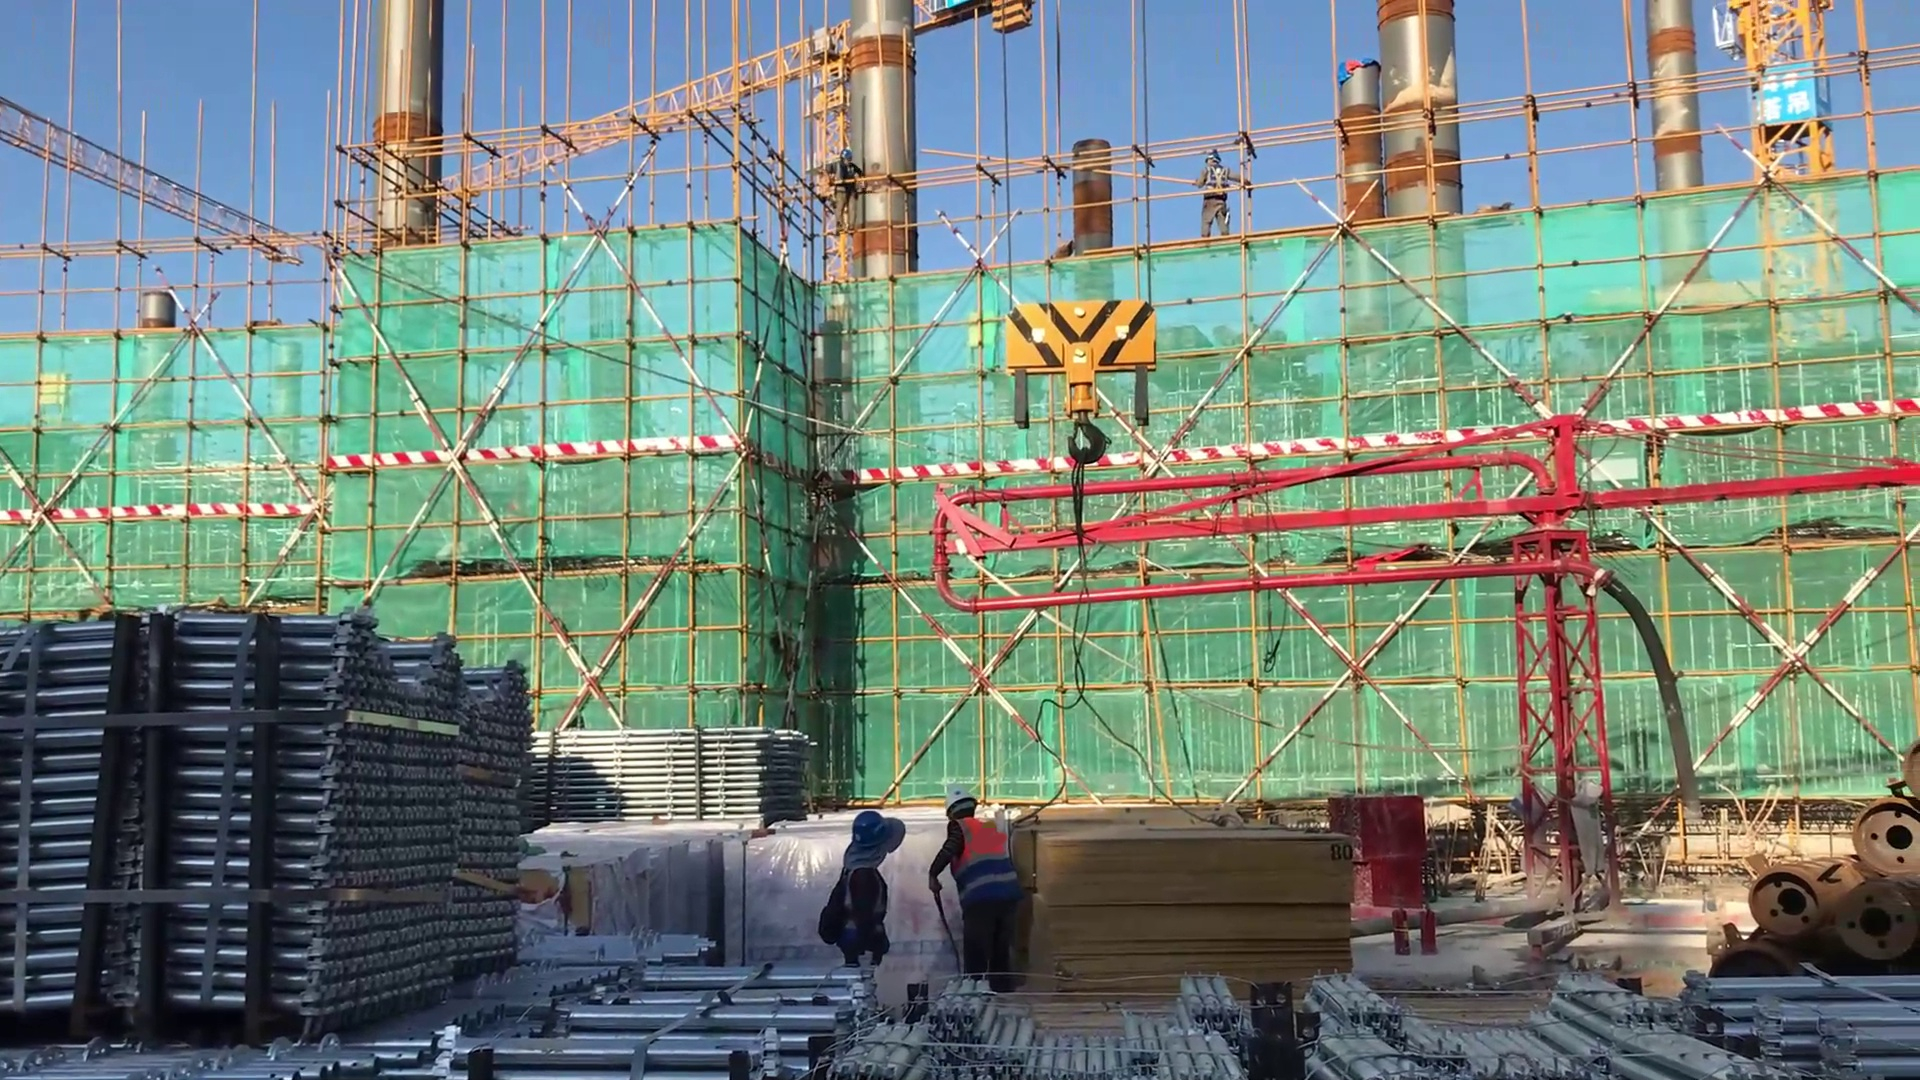board: (1012, 813, 1356, 998)
helmet: (838, 802, 906, 856), (944, 783, 990, 829), (1199, 149, 1227, 172)
hook: (995, 288, 1187, 496)
person: (932, 789, 1019, 997), (815, 804, 914, 985), (1188, 145, 1251, 253)
scaffold: (1, 595, 538, 1046), (464, 937, 873, 1080), (887, 959, 1272, 1080), (1308, 969, 1725, 1080), (1670, 964, 1920, 1078), (537, 721, 812, 823)
slogan: (1748, 62, 1836, 141)
vest: (945, 816, 1020, 906), (830, 861, 893, 960), (1204, 162, 1229, 201)
